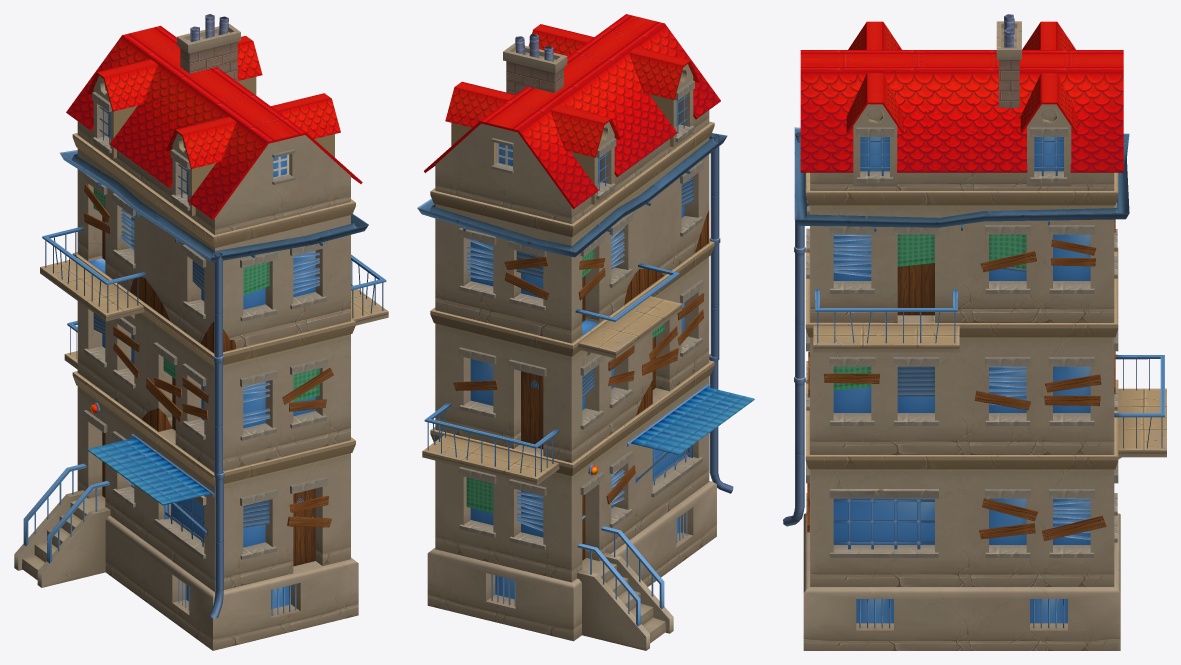
The model's file is Building_01_2_LOD1.fbx.
3 views of the same model, side by side, from view 1: azimuth 30°, elevation 25°; view 2: azimuth 150°, elevation 25°; view 3: azimuth 270°, elevation 25° (orthographic). The views are drawn at different scales.
Visible parts, largest first — view 1: polySurface3650; view 2: polySurface3650; view 3: polySurface3650.
Boxes of the visible parts, bbox=[...] form: polySurface3650: bbox=[14, 14, 388, 650]; polySurface3650: bbox=[417, 14, 754, 650]; polySurface3650: bbox=[783, 14, 1166, 650].
Bounding box in the file's own units: 719 × 1534 × 883.
